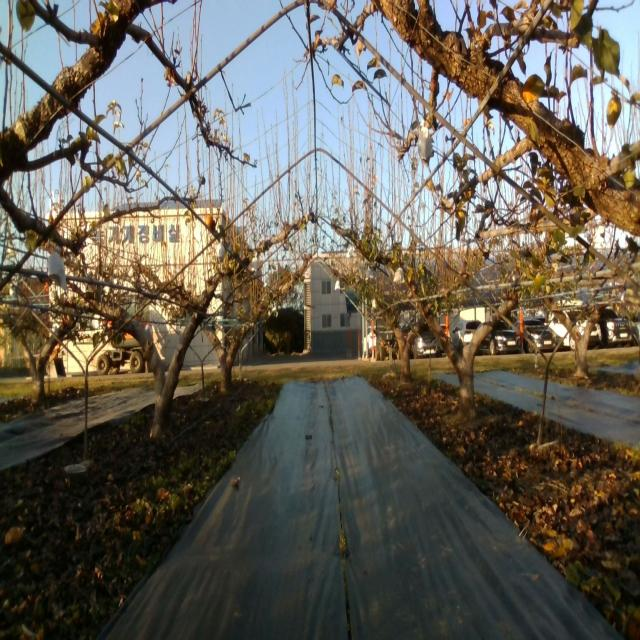pearbags: (46, 246, 67, 292), (418, 118, 431, 168), (393, 267, 405, 285)
